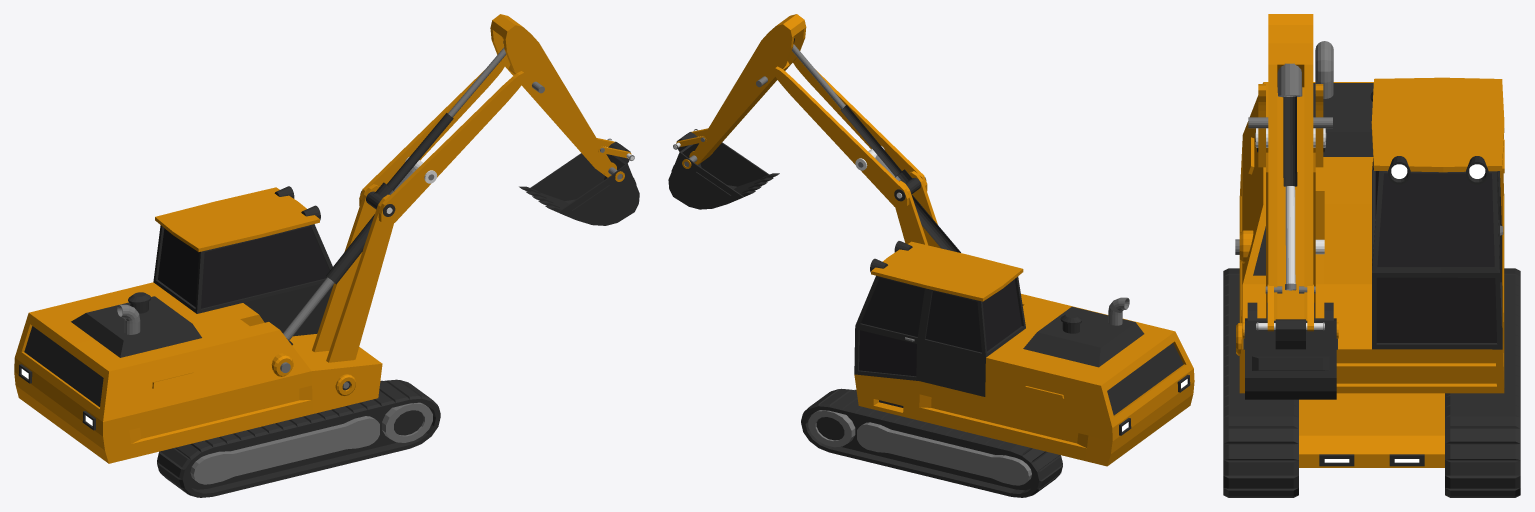
The model's file is excavator.glb.
The picture shows the model from 3 angles, left to right: view 1: azimuth 30°, elevation 25°; view 2: azimuth 150°, elevation 25°; view 3: azimuth 270°, elevation 25°; orthographic projection. The views are drawn at different scales.
Parts seen in each view (by area): view 1: Excavator_Body, Excavator_Tracs, Excavator_Arm_Long_01, Excavator_Arm_Long_02, Excavator_Arm_Short, Excavator_Bucket, Excavator_Cylinder_01, Excavator_Cylinder_02, Excavator_Idlers; view 2: Excavator_Body, Excavator_Tracs, Excavator_Arm_Long_02, Excavator_Arm_Short, Excavator_Bucket, Excavator_Arm_Long_01, Excavator_Cylinder_02, Excavator_Idlers, Excavator_Cylinder_01; view 3: Excavator_Body, Excavator_Tracs, Excavator_Arm_Short, Excavator_Base, Excavator_Bucket, Excavator_Cylinder_03, Excavator_Arm_Long_02, Excavator_Lights, Excavator_Exhaust, Excavator_Arm_Long_01, Excavator_Arm_Bucket, Excavator_Axle_01 (+1 smaller).
Boxes of the visible parts, box(x1,y1,x2,y2) form: Excavator_Body: box(14, 187, 382, 463); Excavator_Tracs: box(157, 379, 440, 497); Excavator_Arm_Long_01: box(312, 184, 393, 362); Excavator_Arm_Long_02: box(359, 61, 525, 224); Excavator_Arm_Short: box(490, 14, 614, 177); Excavator_Bucket: box(519, 141, 639, 225); Excavator_Cylinder_01: box(283, 167, 415, 345); Excavator_Cylinder_02: box(374, 41, 506, 197); Excavator_Idlers: box(382, 402, 432, 442); Excavator_Body: box(854, 241, 1194, 466); Excavator_Tracs: box(801, 388, 1062, 497); Excavator_Arm_Long_02: box(773, 57, 927, 208); Excavator_Arm_Short: box(691, 14, 806, 164); Excavator_Bucket: box(668, 132, 779, 209); Excavator_Arm_Long_01: box(895, 171, 940, 248); Excavator_Cylinder_02: box(792, 38, 913, 183); Excavator_Idlers: box(808, 410, 855, 447); Excavator_Cylinder_01: box(875, 155, 960, 252); Excavator_Body: box(1239, 77, 1504, 393); Excavator_Tracs: box(1223, 268, 1520, 497); Excavator_Arm_Short: box(1268, 14, 1313, 320); Excavator_Base: box(1299, 393, 1444, 467); Excavator_Bucket: box(1243, 302, 1337, 399); Excavator_Cylinder_03: box(1277, 63, 1302, 290); Excavator_Arm_Long_02: box(1258, 84, 1323, 167); Excavator_Lights: box(1388, 156, 1488, 184); Excavator_Exhaust: box(1315, 41, 1333, 98); Excavator_Arm_Long_01: box(1266, 147, 1315, 318); Excavator_Arm_Bucket: box(1267, 284, 1313, 331); Excavator_Axle_01: box(1235, 230, 1324, 263).
Bounding box in the file's own units: 9.21 × 6.25 × 2.98.
